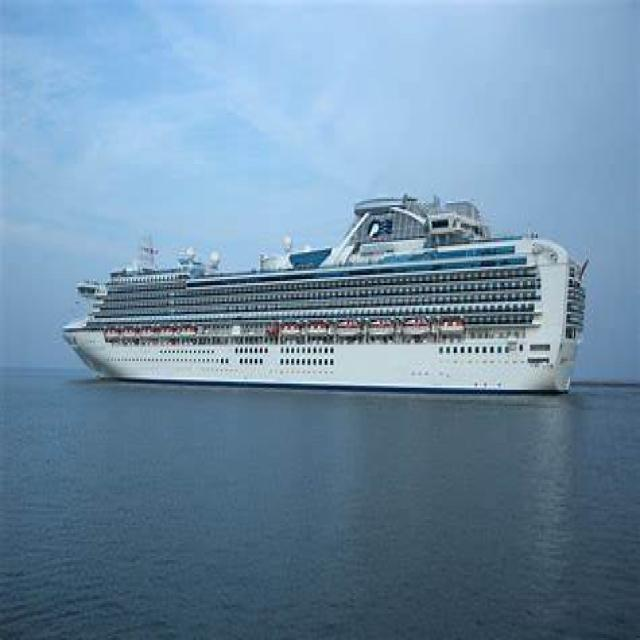PassengerShip: (61, 190, 640, 440)
